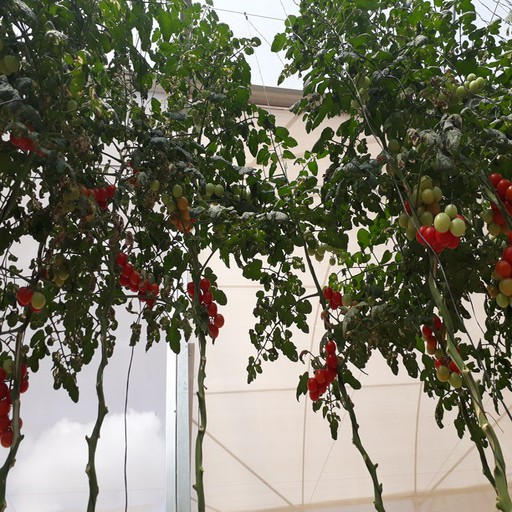green tomato bunch: (401, 178, 439, 239), (442, 73, 490, 97), (379, 139, 407, 172), (306, 238, 337, 263), (351, 71, 370, 108), (195, 183, 225, 202)
mixed tomato bunch: (424, 314, 463, 386), (17, 263, 69, 313), (477, 172, 512, 235), (420, 207, 465, 253), (484, 245, 512, 307), (162, 186, 189, 234)
red tomato bunch: (114, 252, 159, 303), (1, 359, 27, 447), (188, 279, 225, 338), (308, 339, 339, 401), (6, 128, 49, 157), (323, 290, 363, 314), (76, 185, 118, 206)
